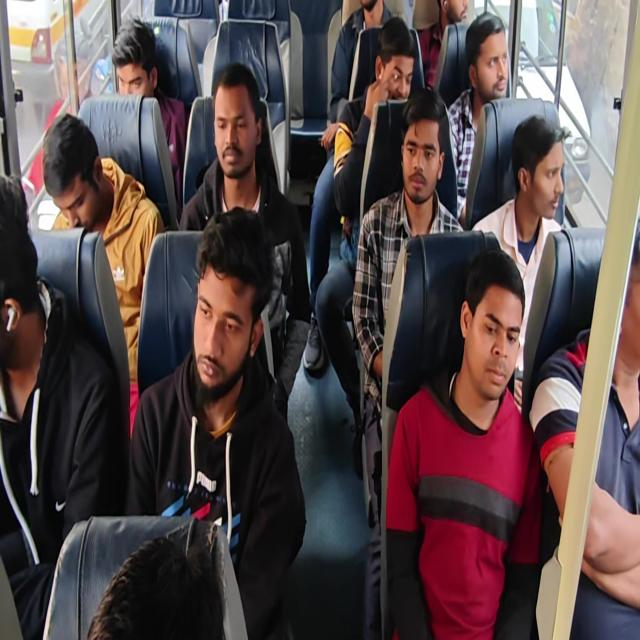person: (1, 1, 638, 638), (126, 206, 307, 638), (351, 85, 465, 637), (384, 246, 543, 638), (0, 173, 123, 638), (178, 61, 312, 419), (528, 212, 640, 638), (314, 16, 417, 476), (42, 112, 165, 438), (471, 114, 566, 412), (87, 533, 226, 639), (110, 15, 186, 208), (446, 12, 510, 224), (27, 29, 96, 206), (321, 0, 393, 154), (416, 0, 469, 90)
